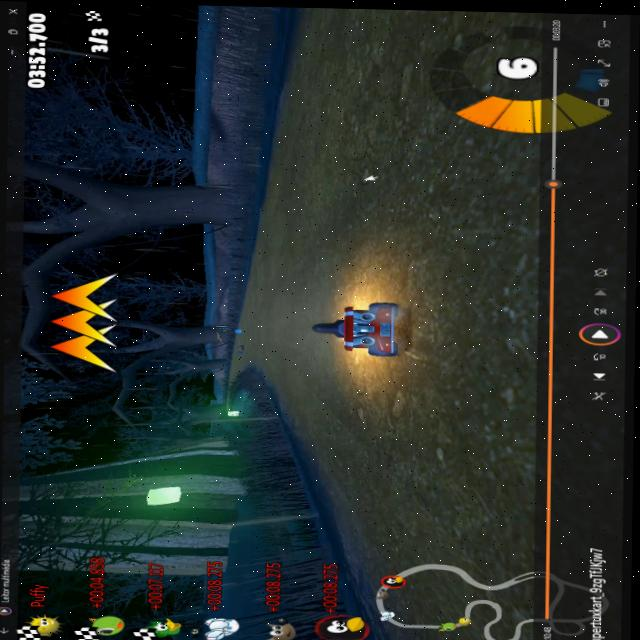bonus: (232, 326, 244, 334)
player_kart: (312, 301, 413, 365)
track: (310, 7, 552, 306), (381, 366, 545, 640), (247, 174, 312, 368), (414, 296, 547, 373), (310, 363, 378, 497), (271, 48, 319, 174), (339, 493, 386, 547), (274, 365, 312, 417), (224, 356, 248, 377), (228, 336, 248, 356)
